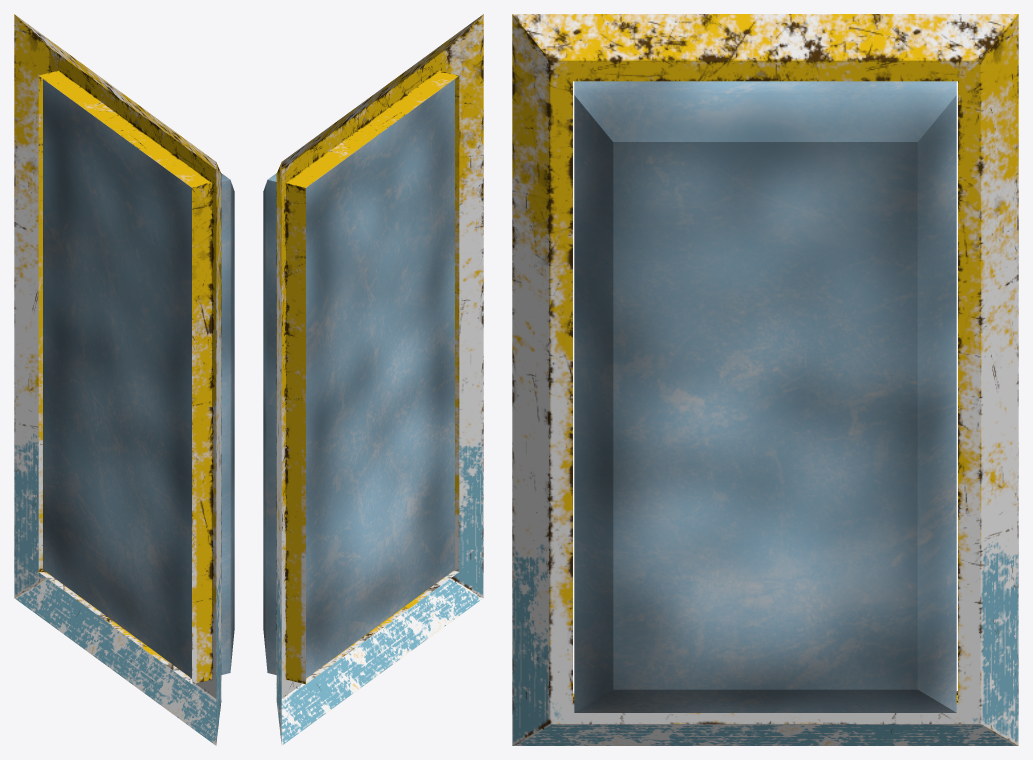
Rendered from Modular_Dungeon_schalter.fbx.
3 renders of one model, left to right at view 1: azimuth 30°, elevation 25°; view 2: azimuth 150°, elevation 25°; view 3: azimuth 270°, elevation 25°, orthographic. The views are drawn at different scales.
Parts seen in each view (by area): view 1: Schalter, Schalter_rahmen; view 2: Schalter, Schalter_rahmen; view 3: Schalter, Schalter_rahmen.
Part boxes in pixels (x1,y1,x2,y2): Schalter: [43, 79, 234, 678]; Schalter_rahmen: [14, 14, 221, 745]; Schalter: [263, 79, 454, 678]; Schalter_rahmen: [276, 14, 483, 745]; Schalter: [574, 81, 956, 712]; Schalter_rahmen: [512, 14, 1018, 745].
Size of the model in its own units: 4.12 by 39.19 by 24.57.
